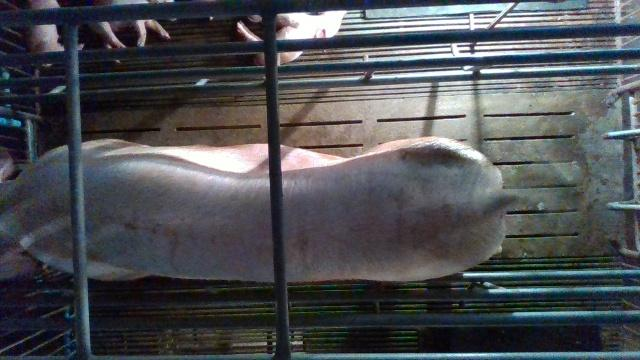piglet: (237, 11, 346, 66), (83, 0, 177, 48), (28, 0, 84, 66)
sow-stand-feed: (0, 133, 522, 283)
